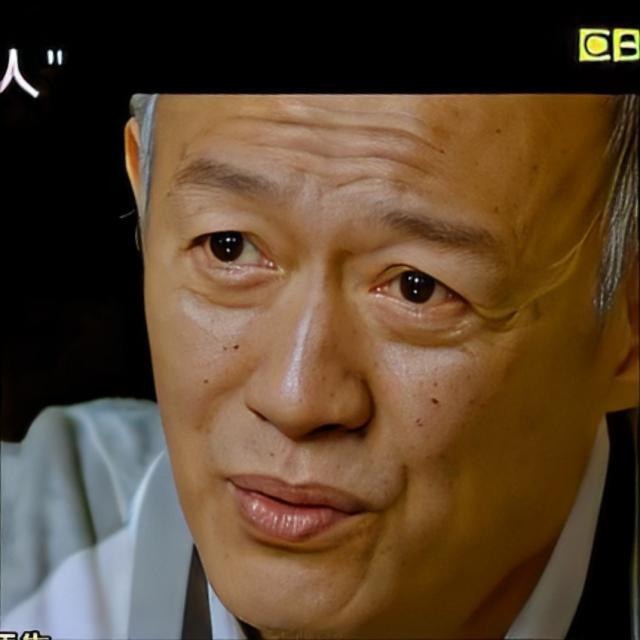surprise: (141, 95, 607, 640)
